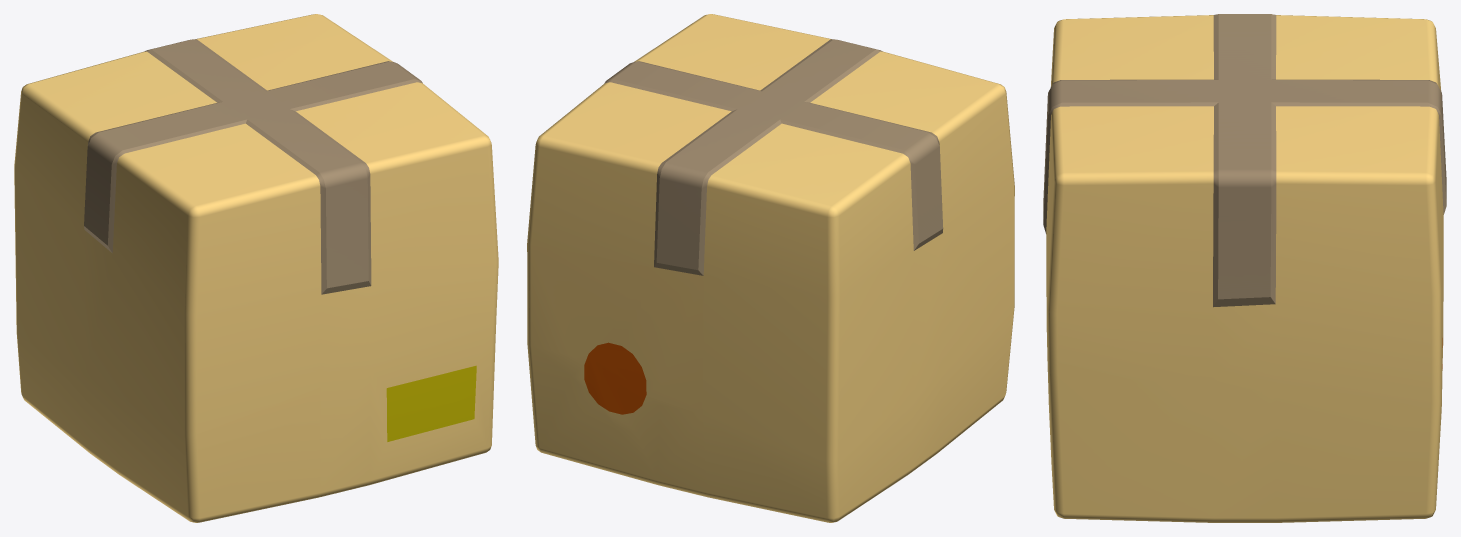
The model's file is box_carton.fbx.
3 views of the same model, side by side, from view 1: azimuth 30°, elevation 25°; view 2: azimuth 150°, elevation 25°; view 3: azimuth 270°, elevation 25° (orthographic). The views are drawn at different scales.
Visible parts, largest first — view 1: carton_box; view 2: carton_box; view 3: carton_box.
Boxes of the visible parts, x1,y1,x2,y2 form: carton_box: (14, 14, 498, 522); carton_box: (527, 14, 1014, 522); carton_box: (1043, 14, 1446, 522).
Bounding box in the file's own units: 149 × 144 × 148.
